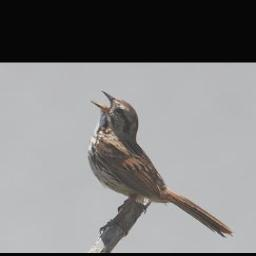Sparrow: (88, 89, 235, 240)
